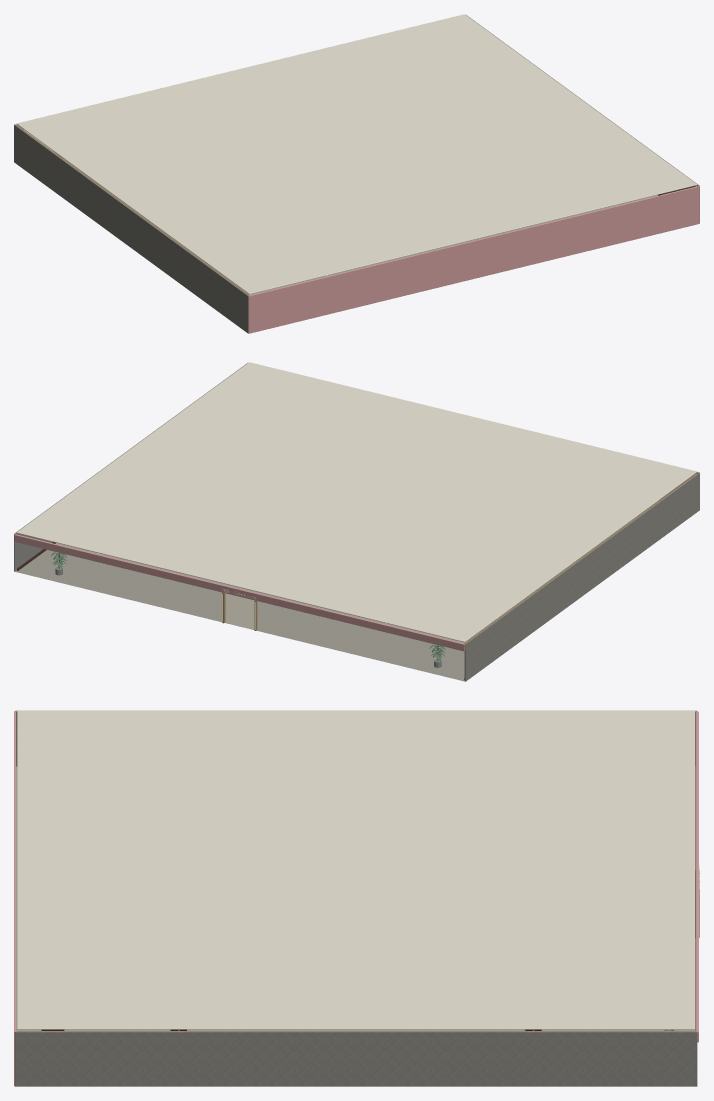
The model's file is piglet.glb.
The picture shows the model from 3 angles, top to bottom: view 1: azimuth 30°, elevation 25°; view 2: azimuth 150°, elevation 25°; view 3: azimuth 270°, elevation 25°; orthographic projection. The views are drawn at different scales.
Visible parts, largest first — view 1: Batched AUR-L2-PIGLET::Warm porcelain, Batched AUR-L2-PIGLET::Tenant piglet, Batched AUR-L2-PIGLET::Travertine, Tenant floor piglet; view 2: Batched AUR-L2-PIGLET::Warm porcelain, Tenant floor piglet, Batched AUR-L2-PIGLET::Tenant glass, Batched AUR-L2-PIGLET::Travertine, Batched AUR-L2-PIGLET::Tenant piglet, Batched AUR-L2-PIGLET::Bronze; view 3: Batched AUR-L2-PIGLET::Warm porcelain, Batched AUR-L2-PIGLET::Travertine, Batched AUR-L2-PIGLET::Tenant piglet, Tenant floor piglet, Batched AUR-L2-PIGLET::Bronze.
Part boxes in pixels (box(x1,y1,x2,y2)): Batched AUR-L2-PIGLET::Warm porcelain: box(16, 14, 697, 294); Batched AUR-L2-PIGLET::Tenant piglet: box(14, 124, 699, 333); Batched AUR-L2-PIGLET::Travertine: box(14, 15, 699, 333); Tenant floor piglet: box(55, 152, 657, 295); Batched AUR-L2-PIGLET::Warm porcelain: box(16, 362, 697, 642); Tenant floor piglet: box(15, 500, 658, 681); Batched AUR-L2-PIGLET::Tenant glass: box(15, 542, 464, 680); Batched AUR-L2-PIGLET::Travertine: box(14, 363, 699, 681); Batched AUR-L2-PIGLET::Tenant piglet: box(14, 472, 699, 651); Batched AUR-L2-PIGLET::Bronze: box(17, 473, 696, 643); Batched AUR-L2-PIGLET::Warm porcelain: box(17, 710, 699, 1029); Batched AUR-L2-PIGLET::Travertine: box(15, 710, 697, 1086); Batched AUR-L2-PIGLET::Tenant piglet: box(14, 711, 698, 1086); Tenant floor piglet: box(16, 766, 695, 1031); Batched AUR-L2-PIGLET::Bronze: box(19, 870, 699, 1031).
Bounding box in the file's own units: 60.16 × 4.97 × 54.29.
11 materials, 3 textured.
